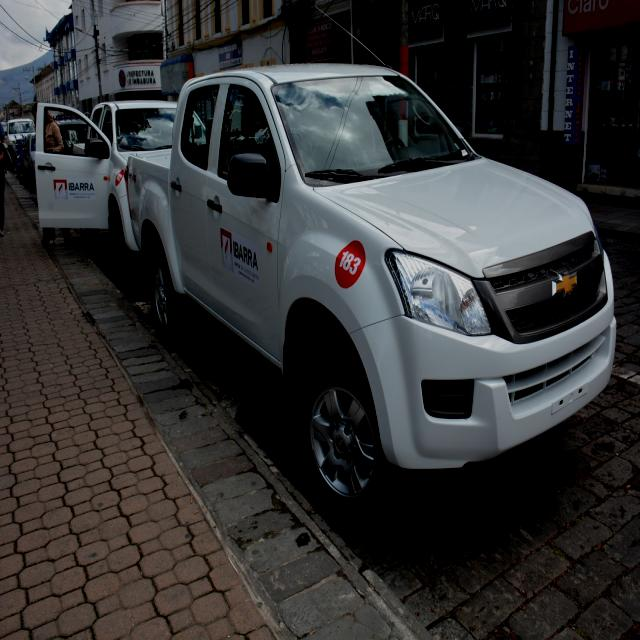CMT: (128, 68, 609, 442)
